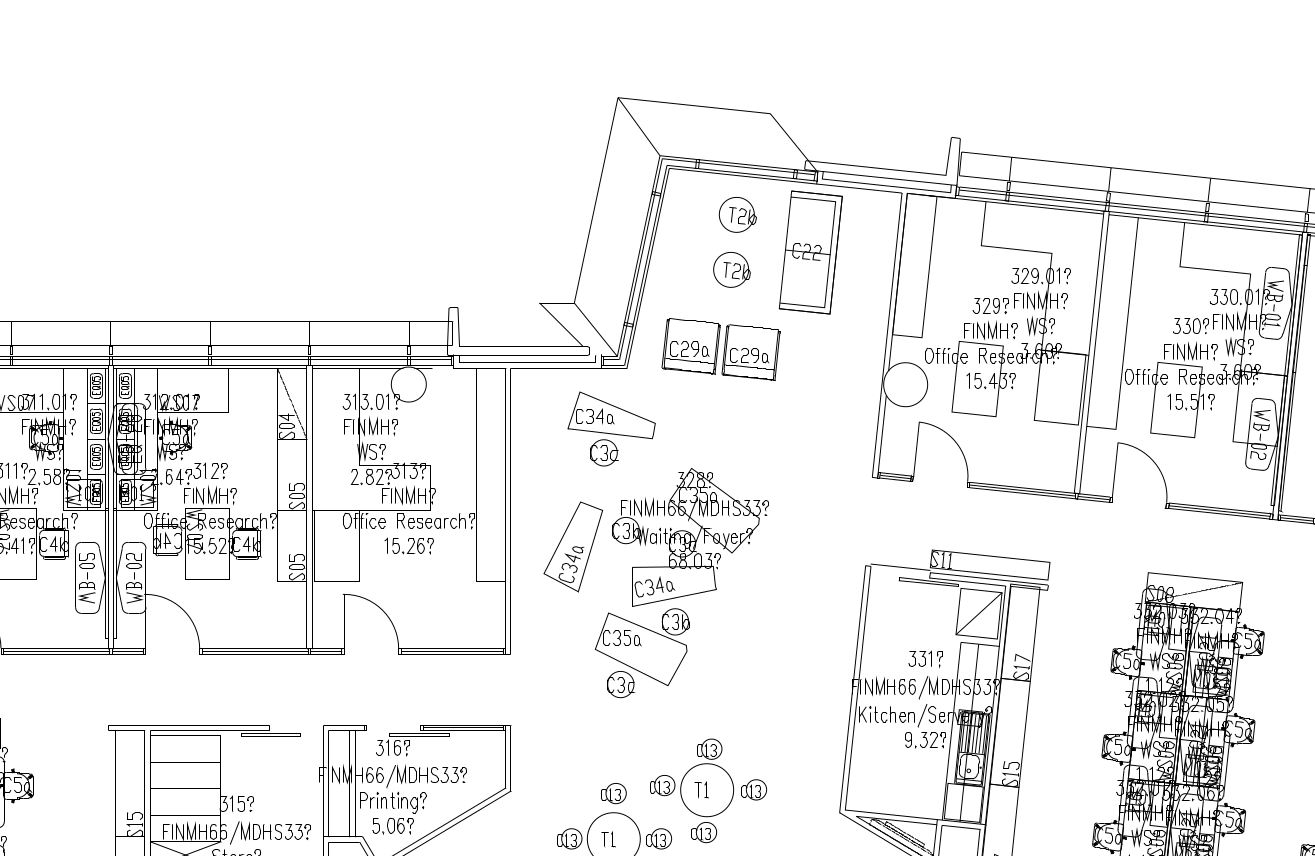door: (340, 585, 405, 669), (143, 591, 208, 675), (910, 419, 974, 503), (1108, 434, 1172, 518)
